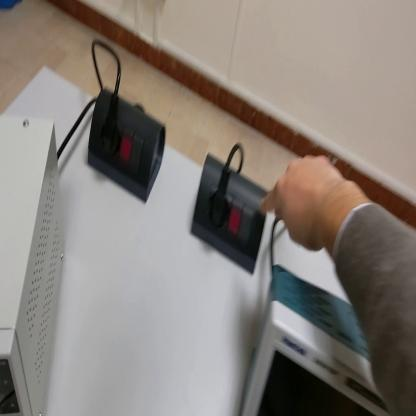hand: (262, 154, 350, 255)
oscilloscope: (242, 269, 392, 411)
power supply: (1, 114, 63, 415)
socket: (194, 150, 275, 275), (87, 83, 167, 206)
